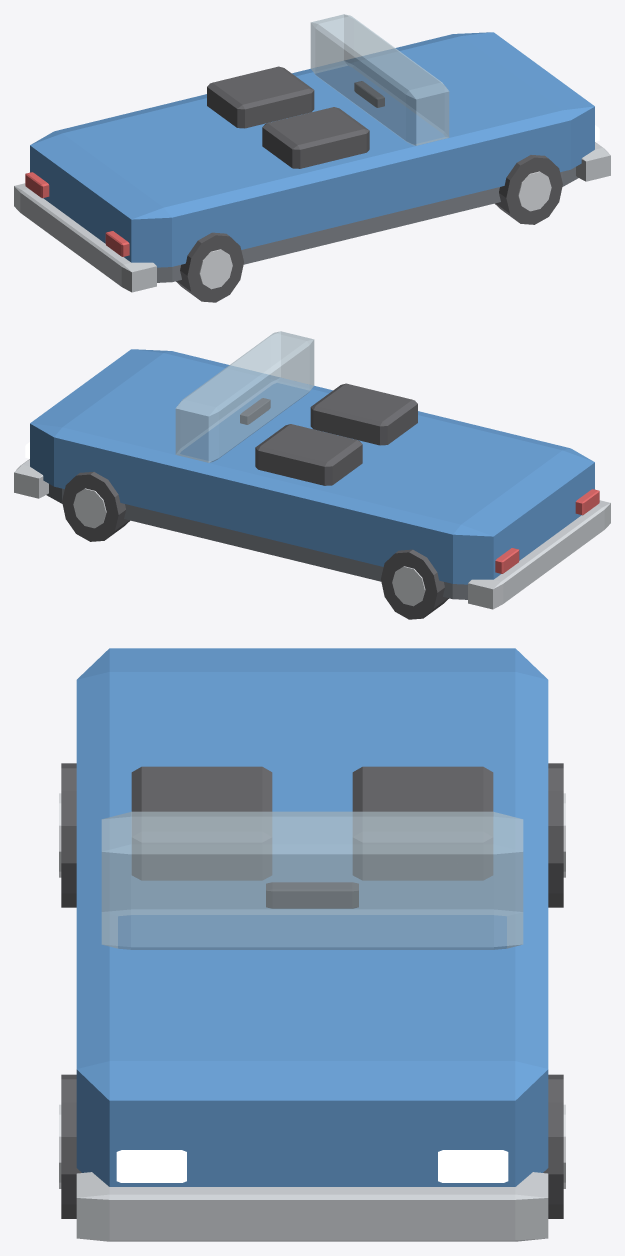
Rendered from b03_four_seat_convertible.glb.
3 renders of one model, top to bottom at view 1: azimuth 30°, elevation 25°; view 2: azimuth 150°, elevation 25°; view 3: azimuth 270°, elevation 25°, orthographic. The views are drawn at different scales.
Parts seen in each view (by area): view 1: b03_four_seat_convertible; view 2: b03_four_seat_convertible; view 3: b03_four_seat_convertible.
Boxes of the visible parts, bbox=[...] form: b03_four_seat_convertible: bbox=[14, 14, 610, 302]; b03_four_seat_convertible: bbox=[14, 331, 610, 619]; b03_four_seat_convertible: bbox=[59, 648, 565, 1241].
Size of the model in its own units: 5.06 by 1.48 by 2.3.
